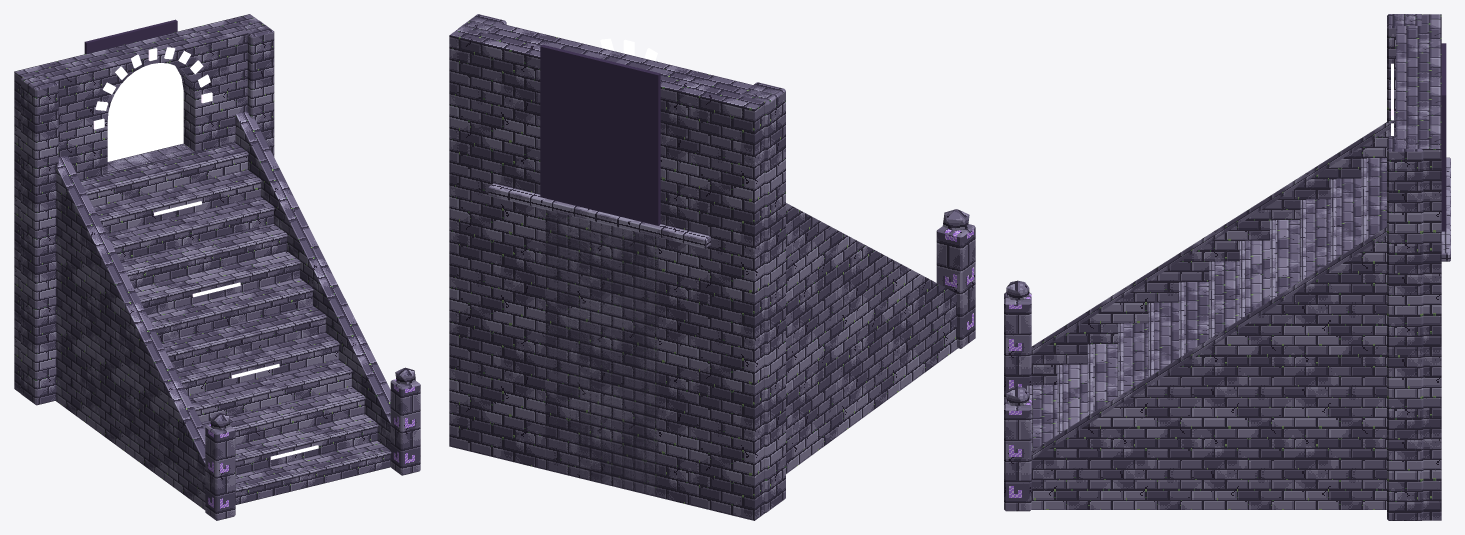
The model's file is tower_stairs.glb.
3 renders of one model, left to right at view 1: azimuth 30°, elevation 25°; view 2: azimuth 150°, elevation 25°; view 3: azimuth 270°, elevation 25°, orthographic. The views are drawn at different scales.
Visible parts, largest first — view 1: Stairs, Glow; view 2: Stairs; view 3: Stairs.
Part boxes in pixels (<box>): Stairs: <box>14,14,420,520</box>; Glow: <box>93,47,318,459</box>; Stairs: <box>449,14,975,520</box>; Stairs: <box>1004,14,1450,520</box>.
Size of the model in its own units: 7.1 by 9.3 by 9.8.
Materials: 6 (3 with a texture image).
